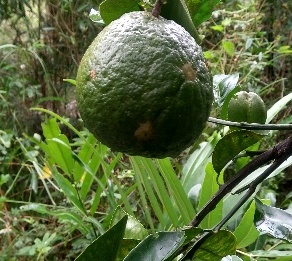Cam: (72, 10, 215, 158)
